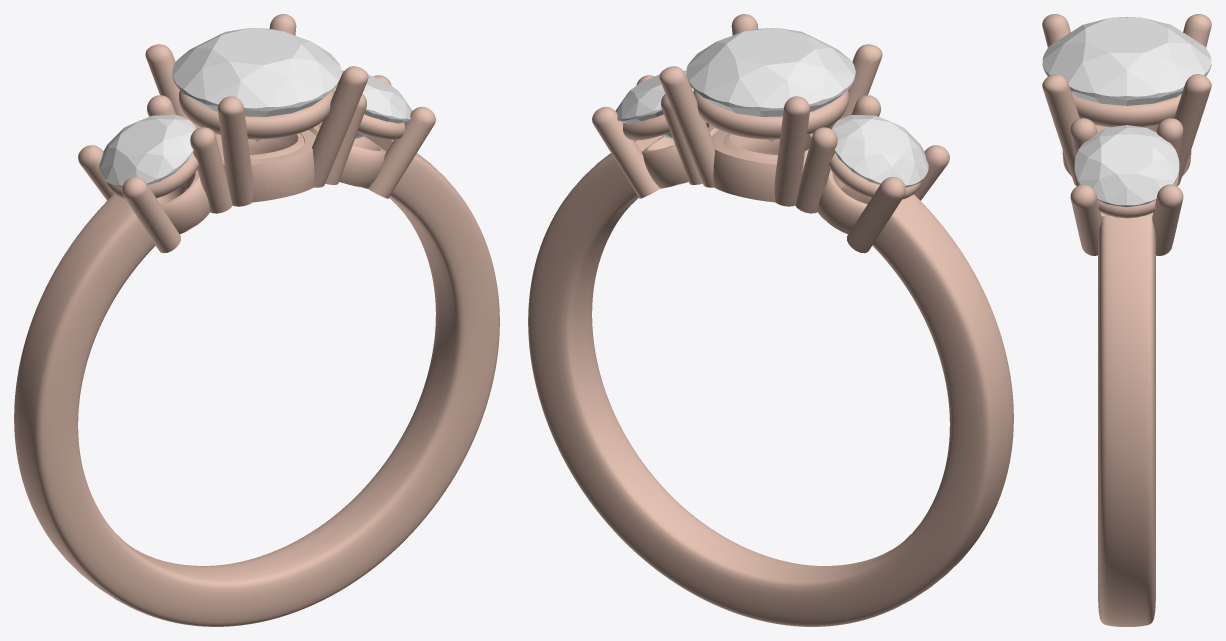
Rendered from diamond-round-rosegold-4prong-straightband-2stone.glb.
3 renders of one model, left to right at view 1: azimuth 30°, elevation 25°; view 2: azimuth 150°, elevation 25°; view 3: azimuth 270°, elevation 25°, orthographic.
Parts seen in each view (by area): view 1: metal, stone, side.001, side; view 2: metal, stone, side.001, side; view 3: metal, stone, side.
Boxes of the visible parts, <box> form: metal: <box>14,14,499,626</box>; stone: <box>172,27,341,141</box>; side.001: <box>99,115,195,187</box>; side: <box>334,70,412,138</box>; metal: <box>528,14,1013,626</box>; stone: <box>686,27,855,141</box>; side.001: <box>832,115,928,187</box>; side: <box>615,70,693,138</box>; metal: <box>1042,14,1211,626</box>; stone: <box>1042,17,1211,105</box>; side: <box>1074,125,1179,207</box>.
Size of the model in its own units: 20.51 by 23.81 by 6.45.
